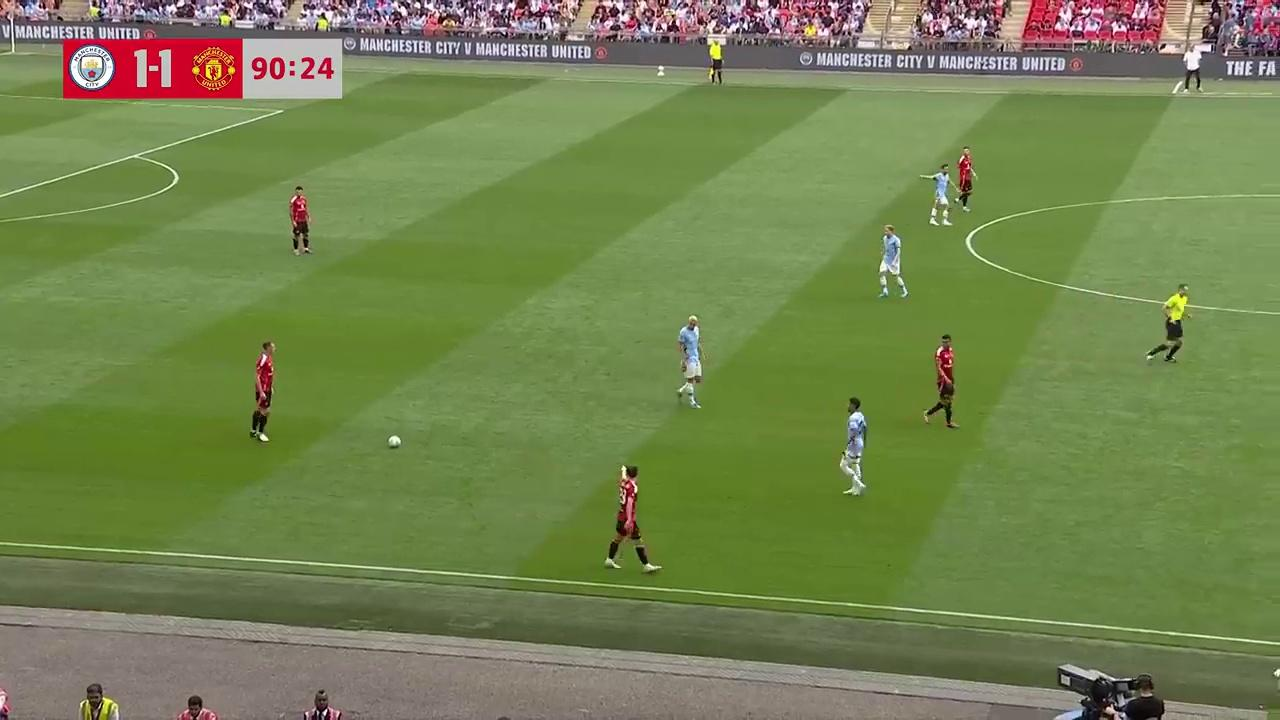ball: (386, 432, 401, 449)
player: (603, 465, 661, 571), (1148, 284, 1192, 364), (923, 332, 959, 429), (839, 398, 868, 496), (676, 314, 705, 409), (249, 340, 275, 442), (877, 224, 908, 299), (289, 184, 312, 255), (928, 164, 954, 226), (955, 147, 977, 212)
referee: (1147, 285, 1192, 364), (707, 36, 725, 85)
